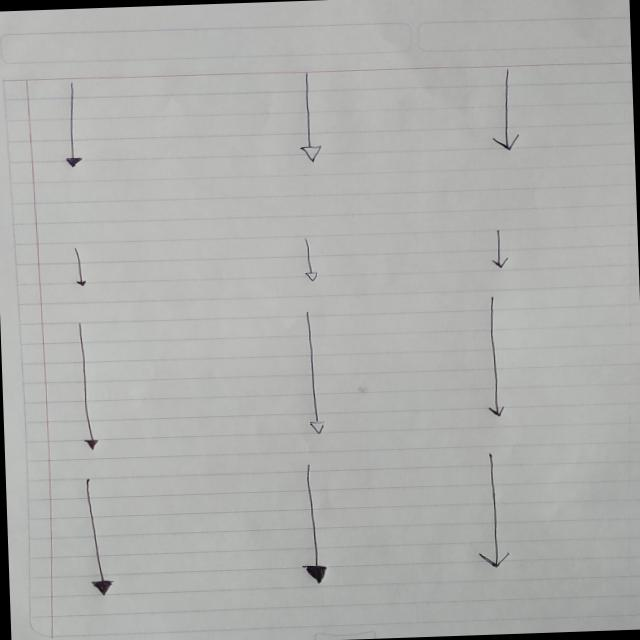arrow_line_down: (470, 448, 512, 571), (77, 476, 117, 597), (296, 460, 332, 586), (68, 320, 100, 453), (478, 293, 509, 419), (298, 308, 328, 434), (487, 65, 522, 155), (294, 68, 323, 166), (57, 79, 87, 172), (484, 225, 510, 269), (299, 234, 320, 284), (68, 244, 88, 288)
